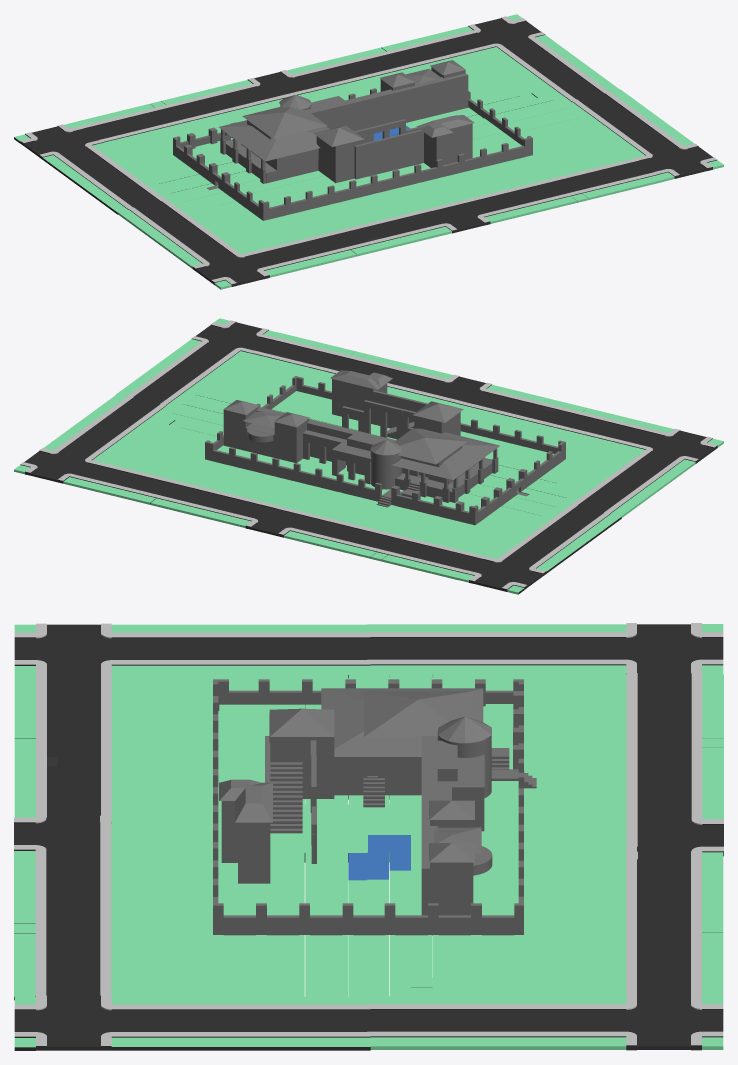
Rendered from WhiteBox_MyPersonalBlock_Clg.fbx.
3 views of the same model, one above another, from view 1: azimuth 30°, elevation 25°; view 2: azimuth 150°, elevation 25°; view 3: azimuth 270°, elevation 25° (orthographic). The views are drawn at different scales.
Visible parts, largest first — view 1: LevelMesh; view 2: LevelMesh; view 3: LevelMesh.
Part boxes in pixels (x1,y1,x2,y2): LevelMesh: [14, 14, 723, 289]; LevelMesh: [14, 318, 723, 594]; LevelMesh: [14, 623, 723, 1050].
Bounding box in the file's own units: 18530 × 13140 × 1830.
